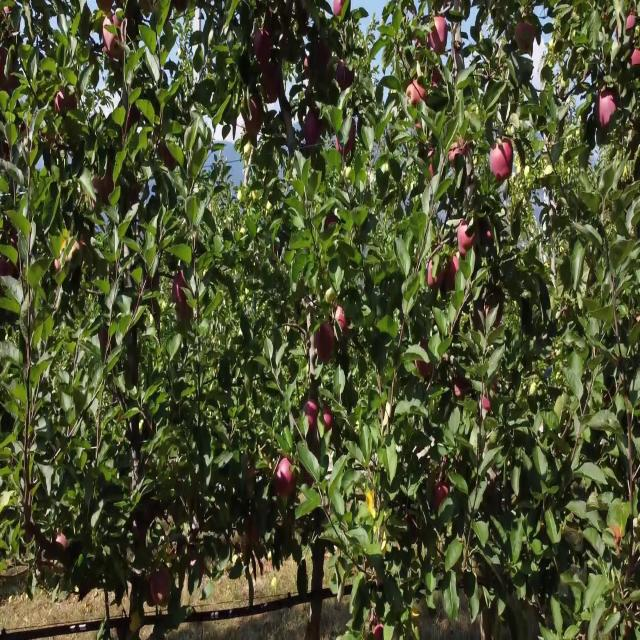apple: (260, 63, 283, 107), (104, 21, 125, 64), (252, 28, 275, 64), (244, 99, 264, 140), (492, 142, 513, 181), (0, 49, 18, 94), (416, 341, 435, 382), (152, 568, 172, 606), (276, 462, 296, 498), (516, 21, 536, 57), (316, 327, 336, 363), (92, 170, 115, 201), (600, 92, 619, 128), (336, 56, 355, 92), (428, 21, 448, 55), (304, 113, 323, 148), (312, 42, 332, 75), (460, 220, 478, 256), (172, 277, 190, 311), (448, 142, 470, 169), (336, 127, 356, 156), (616, 14, 637, 39), (56, 92, 79, 114), (336, 305, 352, 336), (488, 298, 504, 327), (0, 49, 11, 91), (428, 263, 443, 292), (304, 405, 320, 432), (408, 85, 427, 107), (436, 483, 450, 512), (424, 149, 436, 180), (248, 519, 260, 548), (456, 376, 470, 400), (160, 149, 175, 171), (480, 227, 495, 247), (624, 14, 637, 37), (448, 255, 460, 279), (304, 463, 315, 489), (428, 149, 437, 180), (612, 526, 622, 553), (100, 327, 110, 354), (24, 519, 36, 540), (332, 0, 344, 20), (332, 0, 345, 18), (604, 7, 613, 32), (324, 213, 336, 231), (304, 56, 313, 80), (324, 412, 333, 434), (132, 184, 140, 206), (480, 398, 492, 412), (416, 42, 425, 60), (432, 71, 442, 87), (633, 49, 640, 69), (448, 277, 456, 292), (604, 14, 612, 27)
